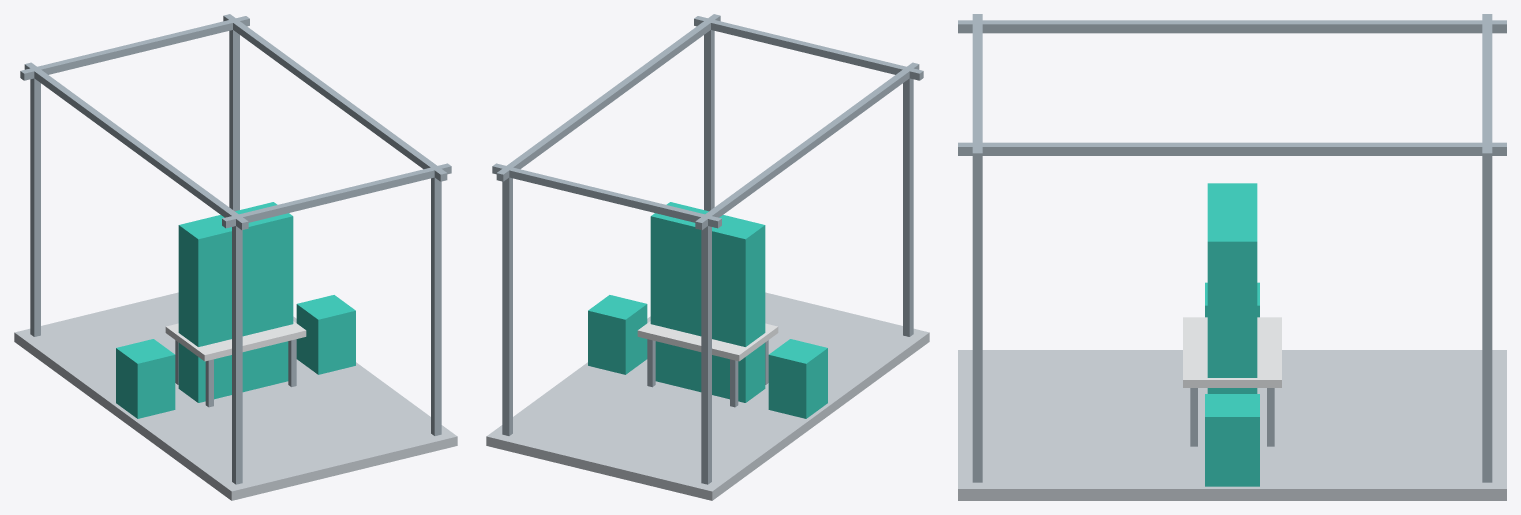
The picture shows the model from 3 angles, left to right: view 1: azimuth 30°, elevation 25°; view 2: azimuth 150°, elevation 25°; view 3: azimuth 270°, elevation 25°; orthographic projection. The views are drawn at different scales.
Parts seen in each view (by area): view 1: Exhibition Booth Concept; view 2: Exhibition Booth Concept; view 3: Exhibition Booth Concept.
Boxes of the visible parts, x1=… form: Exhibition Booth Concept: x1=14, y1=14, x2=457, y2=500; Exhibition Booth Concept: x1=486, y1=14, x2=929, y2=500; Exhibition Booth Concept: x1=958, y1=14, x2=1506, y2=500.
Bounding box in the file's own units: 3 × 3.49 × 5.
